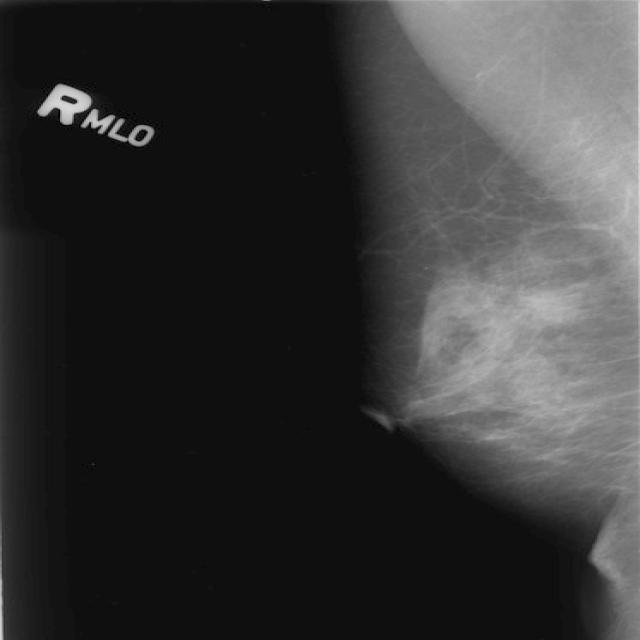tumour: (520, 285, 585, 324)
